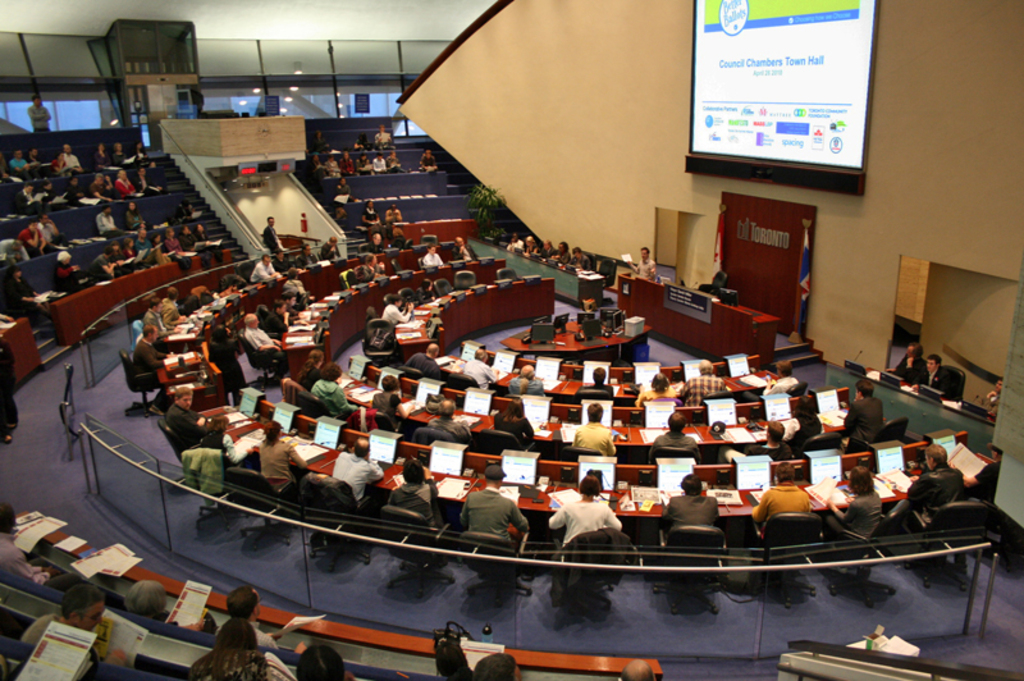Person: (0, 55, 1003, 680)
